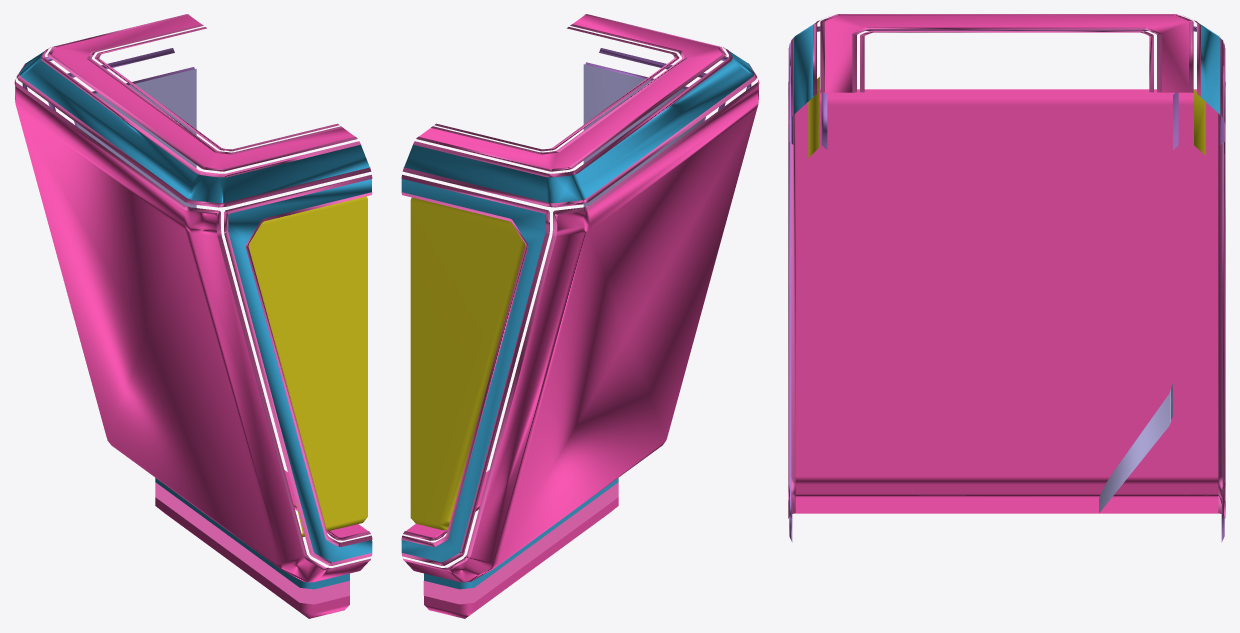
The model's file is counter_reception_1_start_0038x0075x01_b.glb.
3 views of the same model, side by side, from view 1: azimuth 30°, elevation 25°; view 2: azimuth 150°, elevation 25°; view 3: azimuth 270°, elevation 25° (orthographic). The views are drawn at different scales.
Size of the model in its own units: 0.3859 by 1 by 0.7535.
